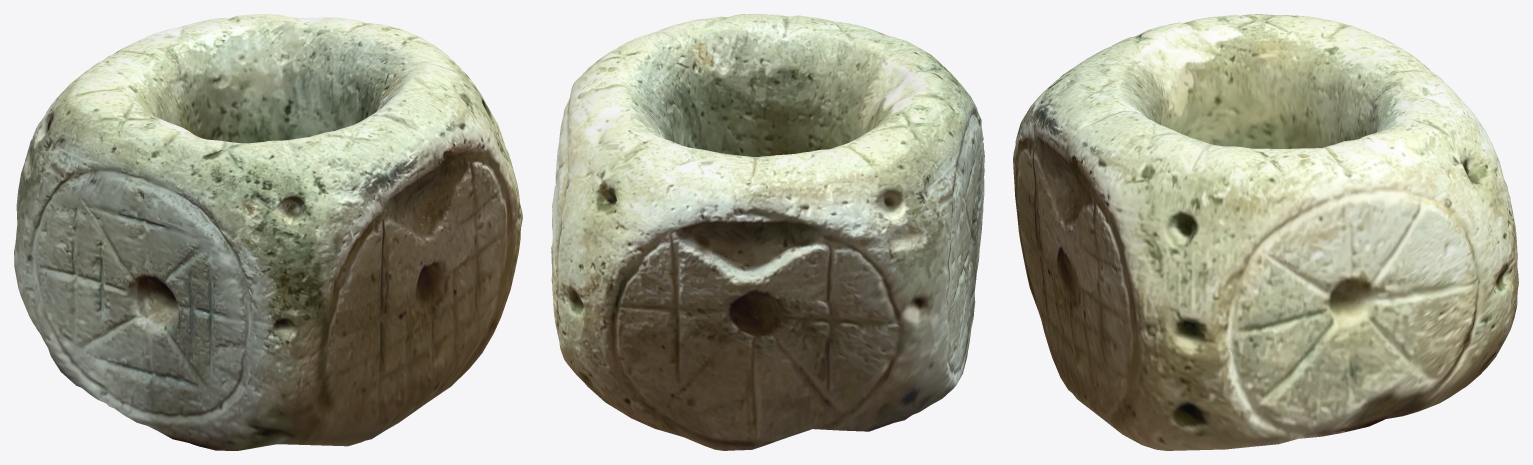
Rendered from stone_citru.glb.
3 views of the same model, side by side, from view 1: azimuth 30°, elevation 25°; view 2: azimuth 150°, elevation 25°; view 3: azimuth 270°, elevation 25° (orthographic). The views are drawn at different scales.
Parts seen in each view (by area): view 1: Object_2; view 2: Object_2; view 3: Object_2.
Boxes of the visible parts, x1,y1,x2,y2 form: Object_2: (14, 14, 522, 450); Object_2: (551, 14, 984, 450); Object_2: (1013, 14, 1518, 450).
Bounding box in the file's own units: 97.1 × 67.5 × 97.15.
Materials: 1 (1 with a texture image).
